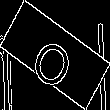O_NE: (28, 22, 82, 88)
